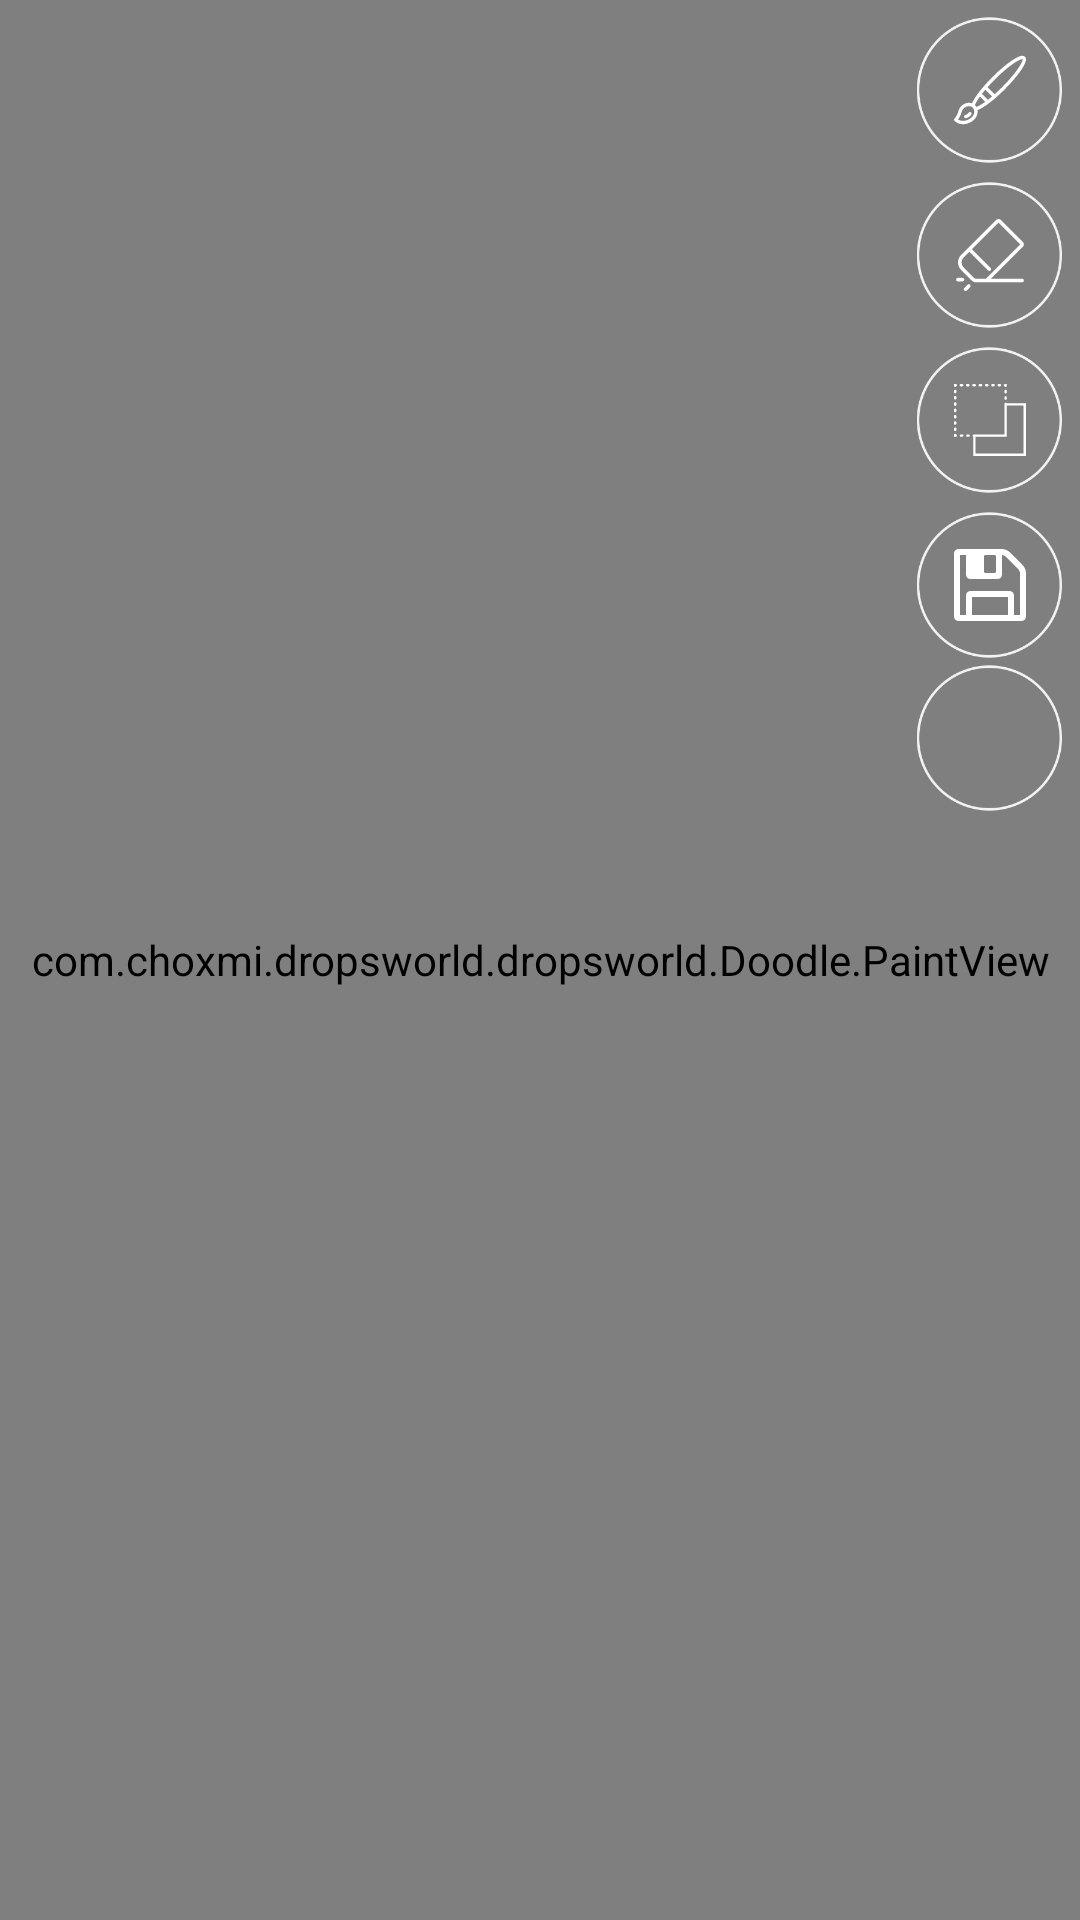

Locate icon controls on the screen. Image size 1080px×1920px, boxes as (x1, y1, x2, y2).
brush: (917, 17, 1062, 163)
eraser: (917, 182, 1062, 328)
save: (917, 512, 1062, 658)
